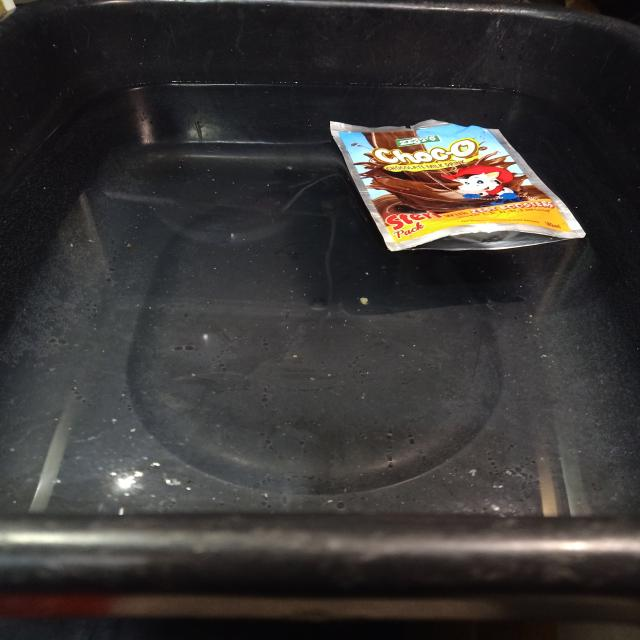Plastic Pouch: (331, 120, 585, 251)
